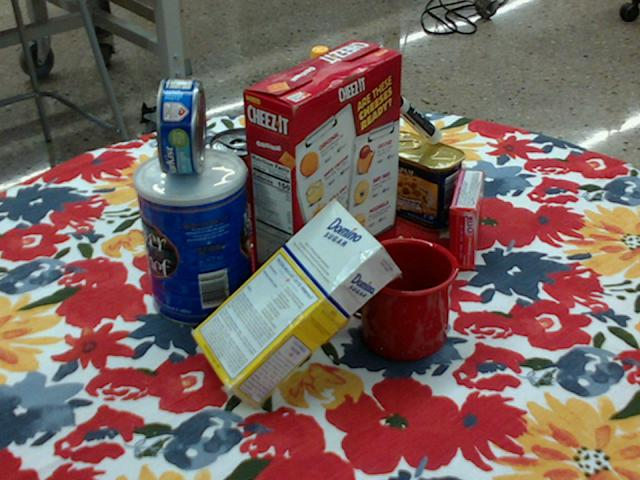cracker_box: (241, 40, 402, 308)
gelatin_box: (449, 169, 484, 270)
large_marker: (380, 85, 441, 142)
master_chef_can: (134, 148, 252, 328)
mug: (333, 236, 458, 360)
mustard_bottle: (286, 46, 364, 222)
potted_meat_can: (374, 130, 465, 231)
sugar_box: (192, 199, 400, 413)
tomato_soup_can: (209, 127, 276, 236)
tuna_fish_can: (156, 77, 203, 173)
